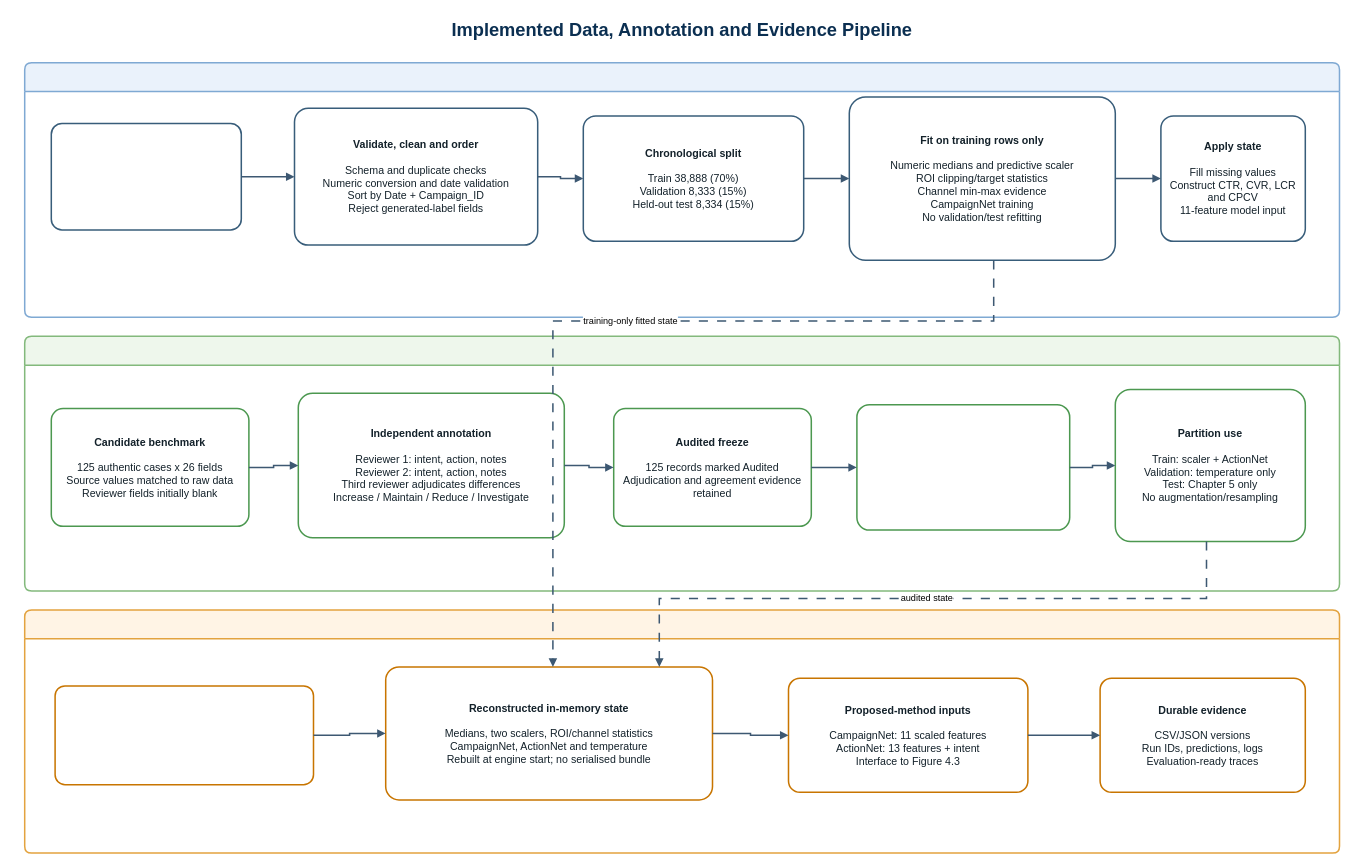
Some shapes in this 1363 by 866 pixel diagram are drawn without their labels. Each missing label, with the box of its shape:
A. Campaign source and leakage-controlled preprocessing: (24, 62, 1340, 318)
B. Independent benchmark annotation and audited action evidence: (24, 335, 1340, 591)
C. Model-ready interfaces, retained state and evidence traces: (24, 609, 1340, 853)
Chronological split Train 87 Validation 19 Held-out test 19: (856, 404, 1070, 530)
Raw Nykaa campaign CSV 55,555 records x 16 fields Immutable source + checksum: (50, 122, 242, 230)
Runtime API case case_features constructs 13 values Same four zero-safe ratios: (54, 685, 314, 785)
